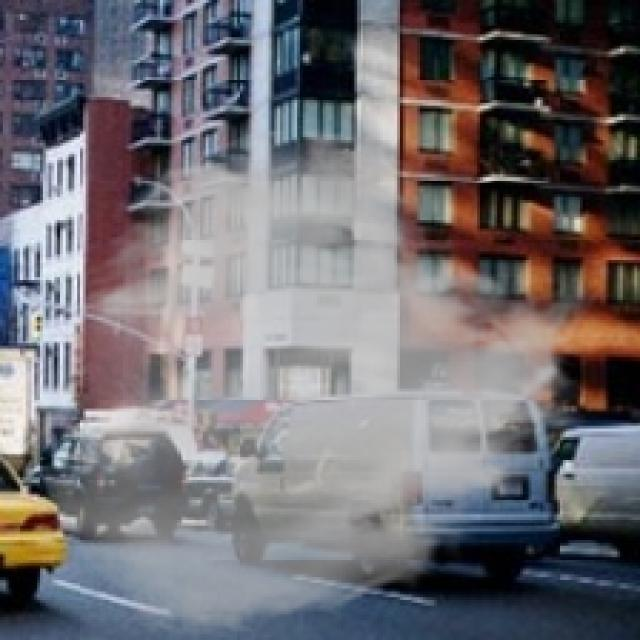smoke: (40, 123, 603, 637)
